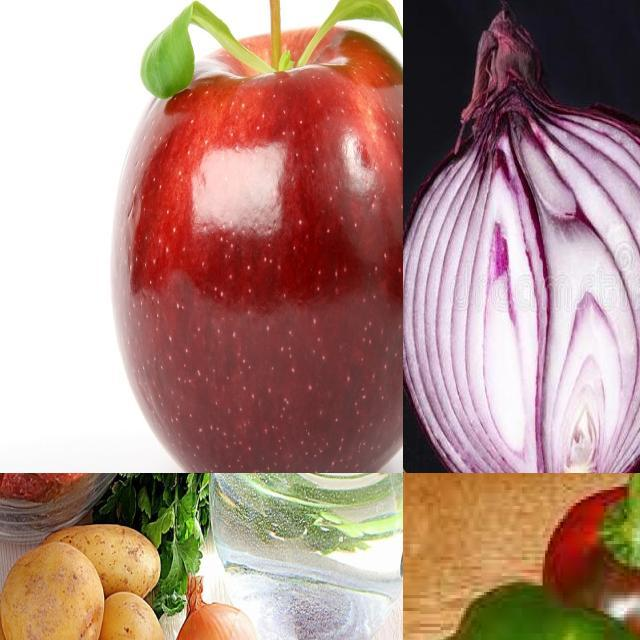bell_pepper: (404, 583, 640, 640)
onion: (404, 1, 640, 474), (168, 570, 271, 640)
potato: (33, 510, 164, 611), (1, 539, 99, 640), (79, 579, 167, 640)
